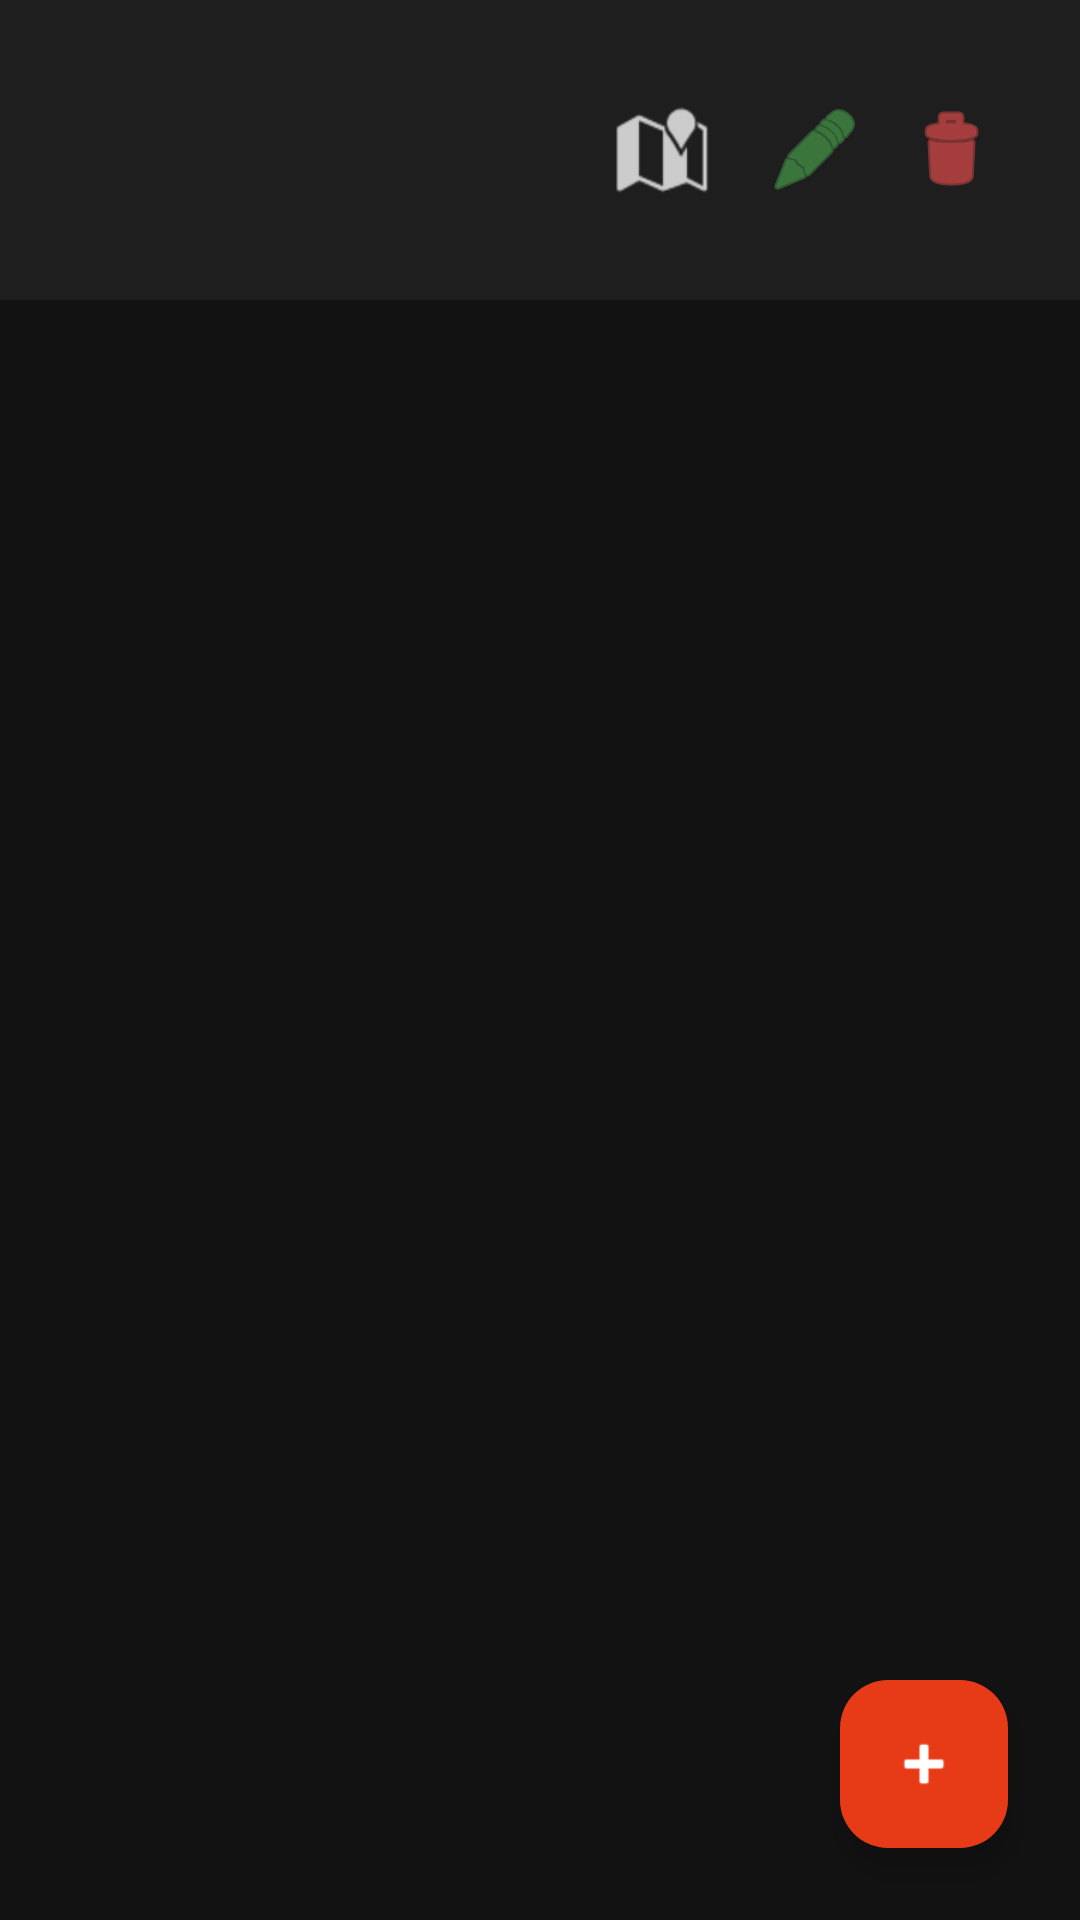

Icons on this 1080*1920 Android screen, each with its box as (x1, y1, x2, y2):
Aggiungi una nuova tappa al viaggio: (840, 1680, 1008, 1848)
Elimina definitivamente questo viaggio: (924, 111, 979, 186)
